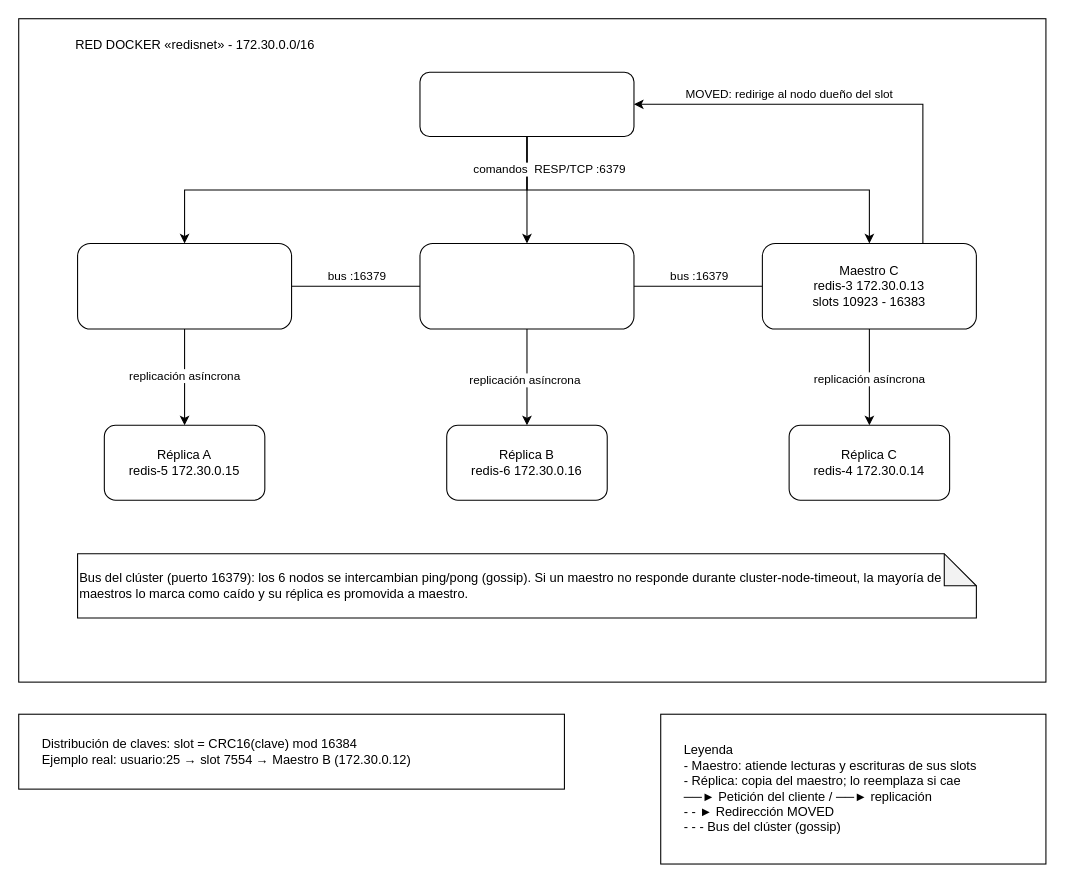
The diagram is 1065 pixels wide and 883 high, and some of its shapes have lost their labels. Here are the shapes that lost their labels. From the top down, the centre of each, then its label:
point (526, 103): Cliente redis-cli -c (modo clúster)
point (184, 285): Maestro A redis-1 172.30.0.11 slots 0 - 5460
point (526, 285): Maestro B redis-2 172.30.0.12 slots 5461-10922
